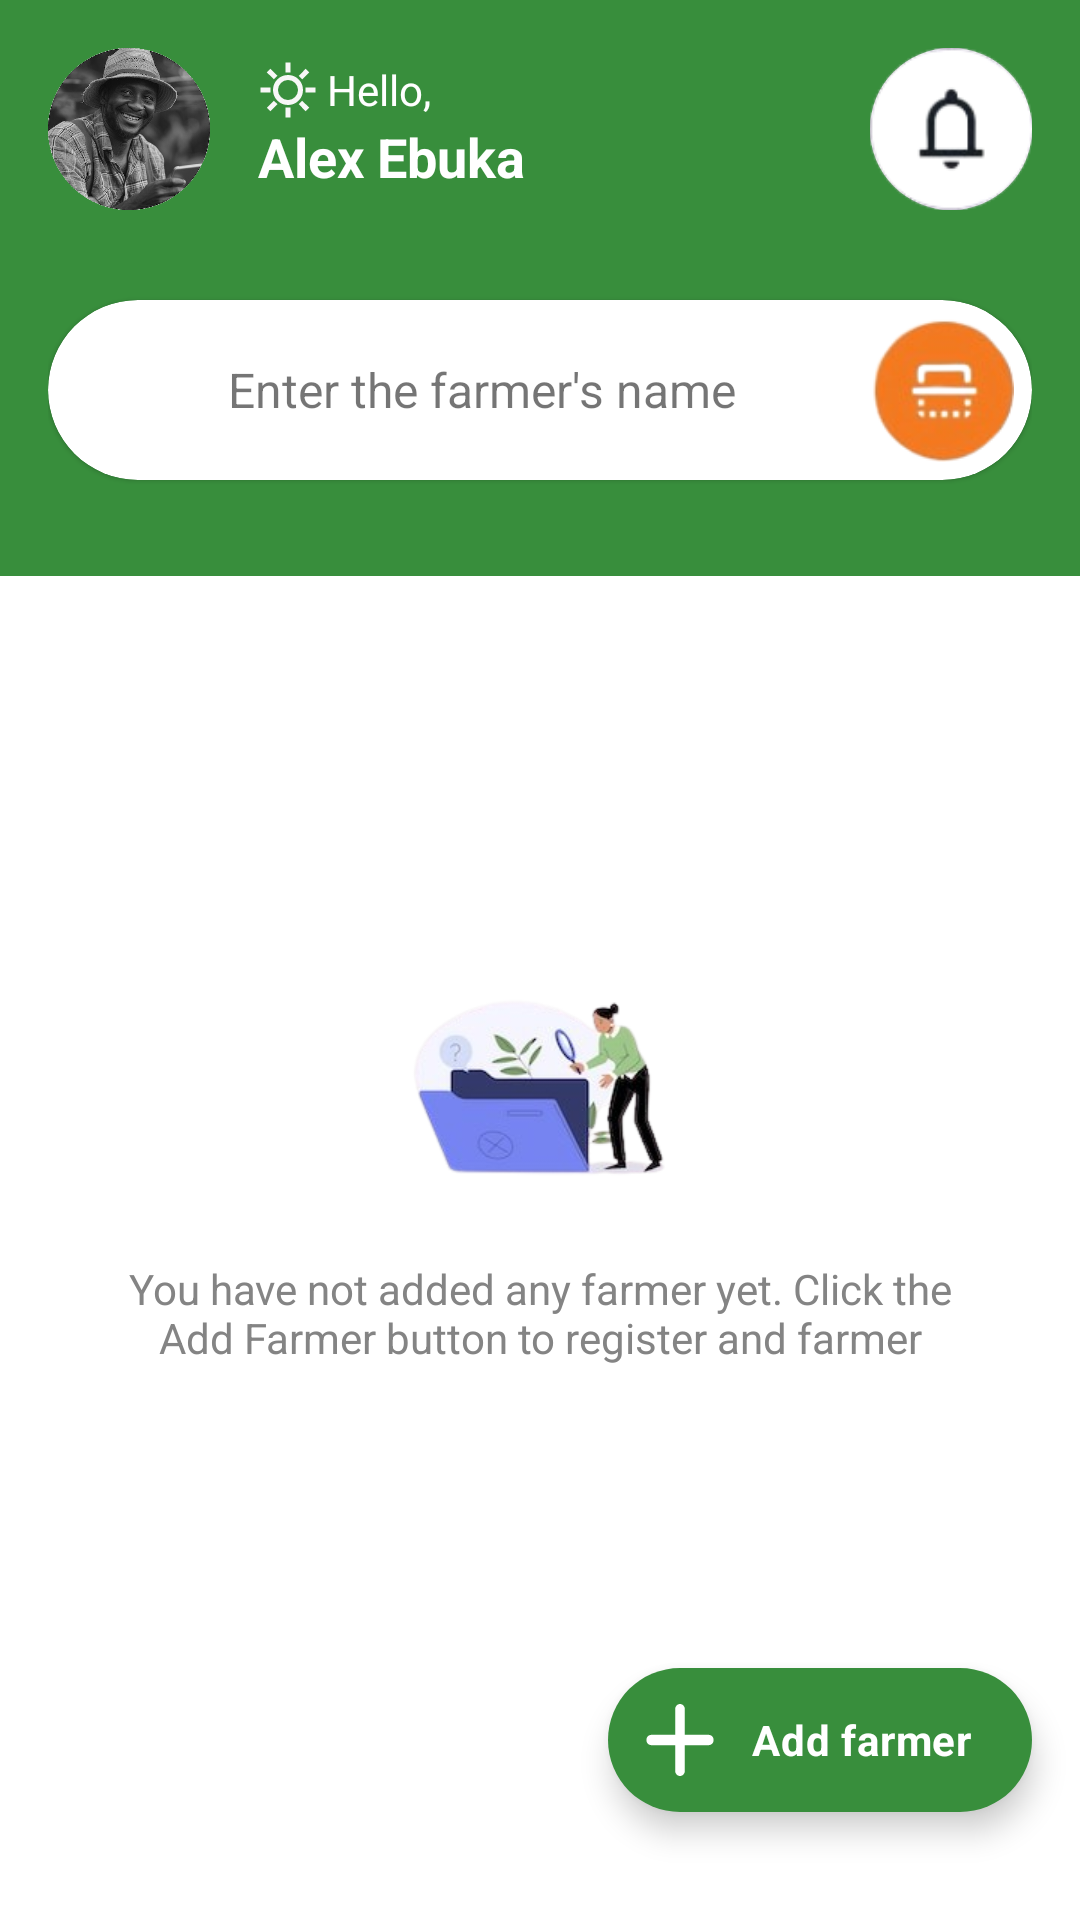

Icons on this 1080x1920 Android screen, each with its box as (x1, y1, x2, y2):
No farmers registered: (418, 1002, 663, 1173)
notification: (870, 48, 1032, 210)
profile picture: (48, 48, 210, 210)
